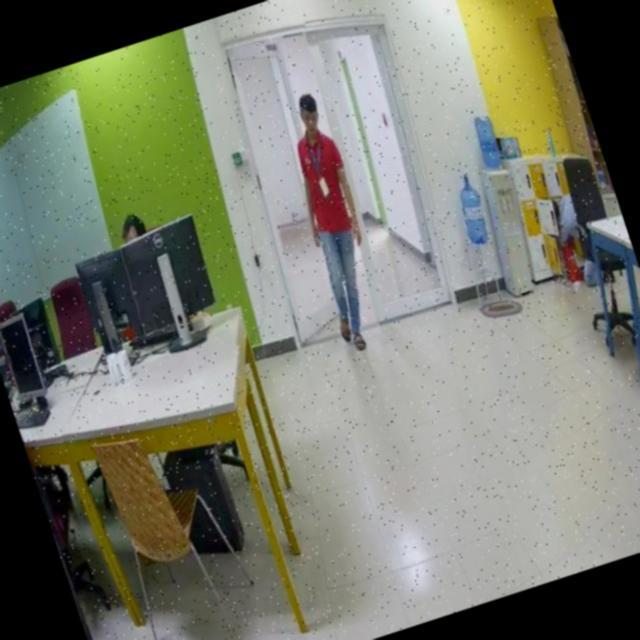person: (264, 88, 406, 356)
